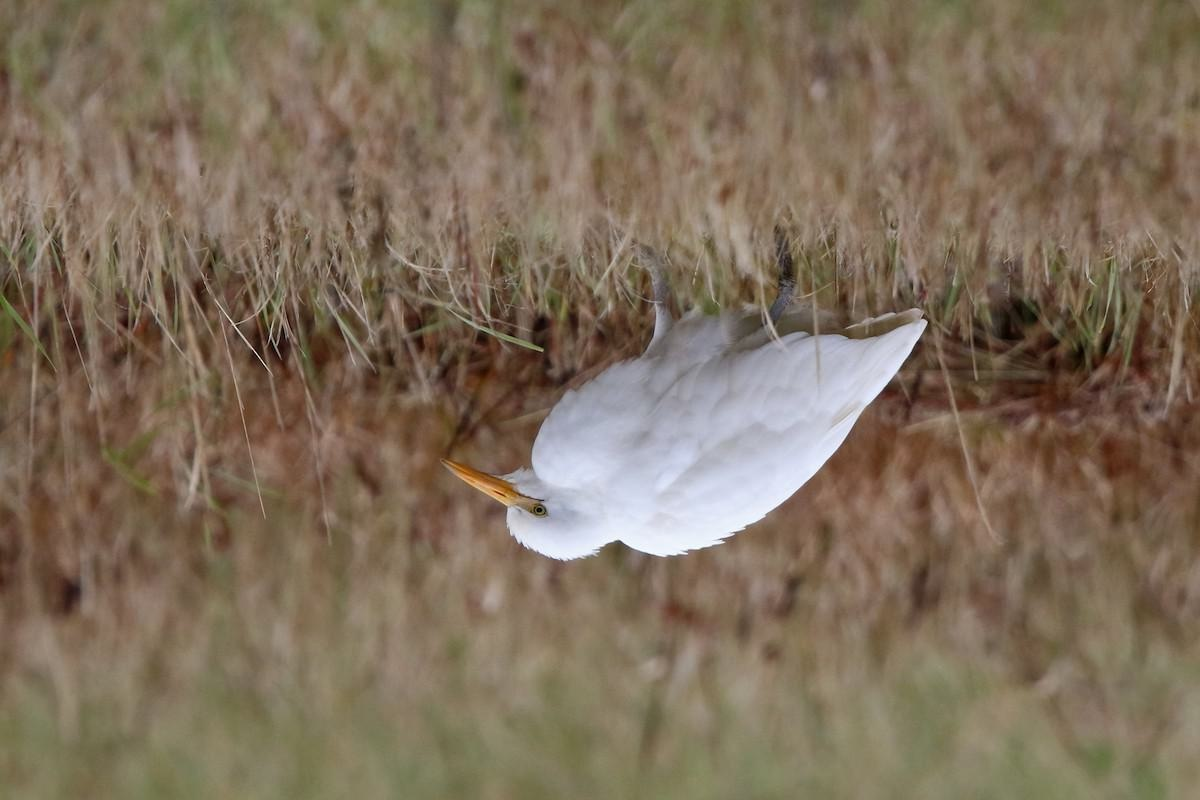egret: (415, 255, 963, 595)
